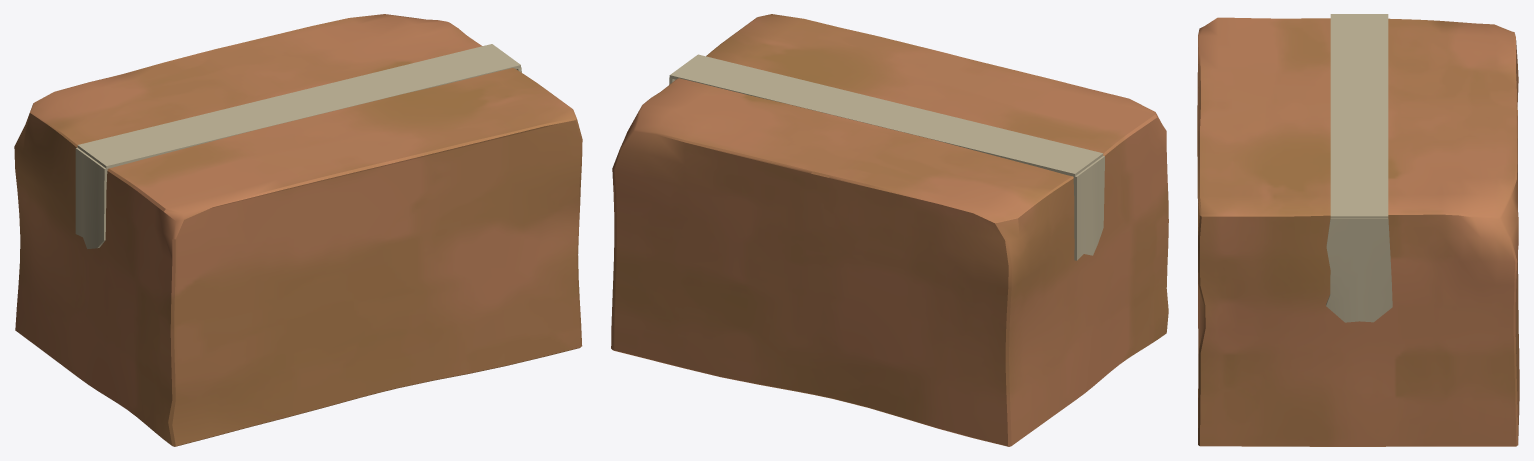
The model's file is smaller_box.fbx.
3 views of the same model, side by side, from view 1: azimuth 30°, elevation 25°; view 2: azimuth 150°, elevation 25°; view 3: azimuth 270°, elevation 25° (orthographic). The views are drawn at different scales.
Visible parts, largest first — view 1: smaller_box; view 2: smaller_box; view 3: smaller_box.
Part boxes in pixels (x1=…): smaller_box: x1=14, y1=14, x2=582, y2=446; smaller_box: x1=611, y1=14, x2=1168, y2=446; smaller_box: x1=1197, y1=14, x2=1519, y2=446.
Size of the model in its own units: 2.88 by 1.54 by 1.9.
2 materials, 1 textured.
